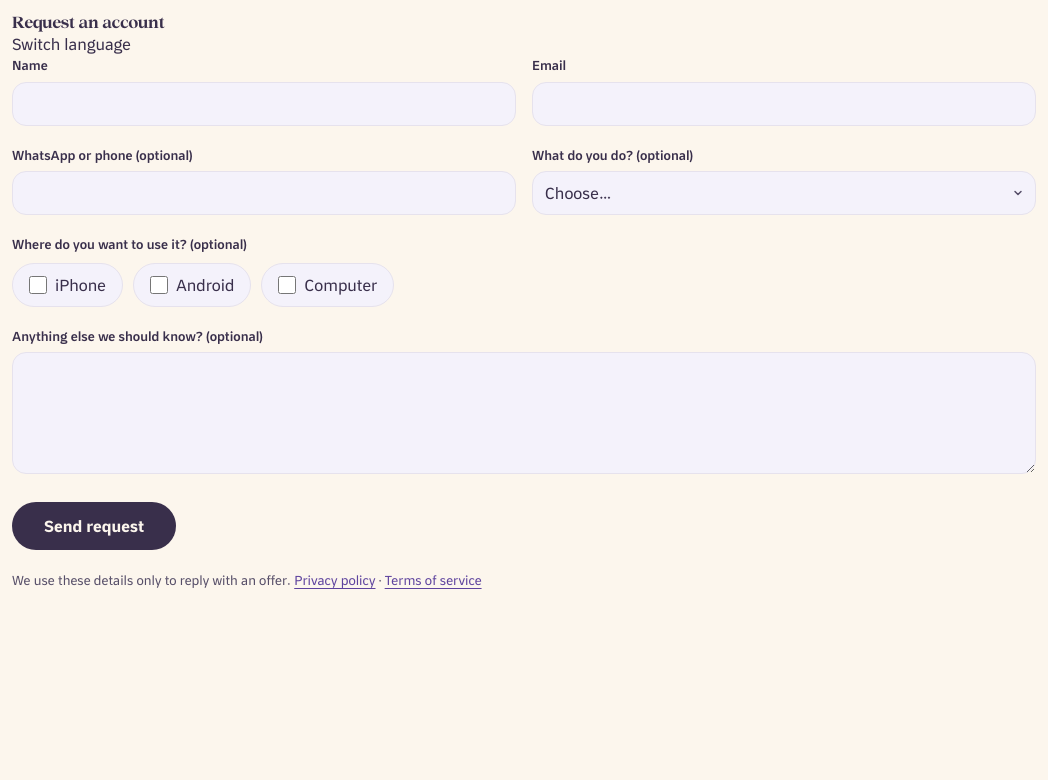
it: HostedRequestForm validation › stops an empty request, marks both required fields and moves focus to the first
Click the button "Send request" at (94, 526), box [12,502,176,550]
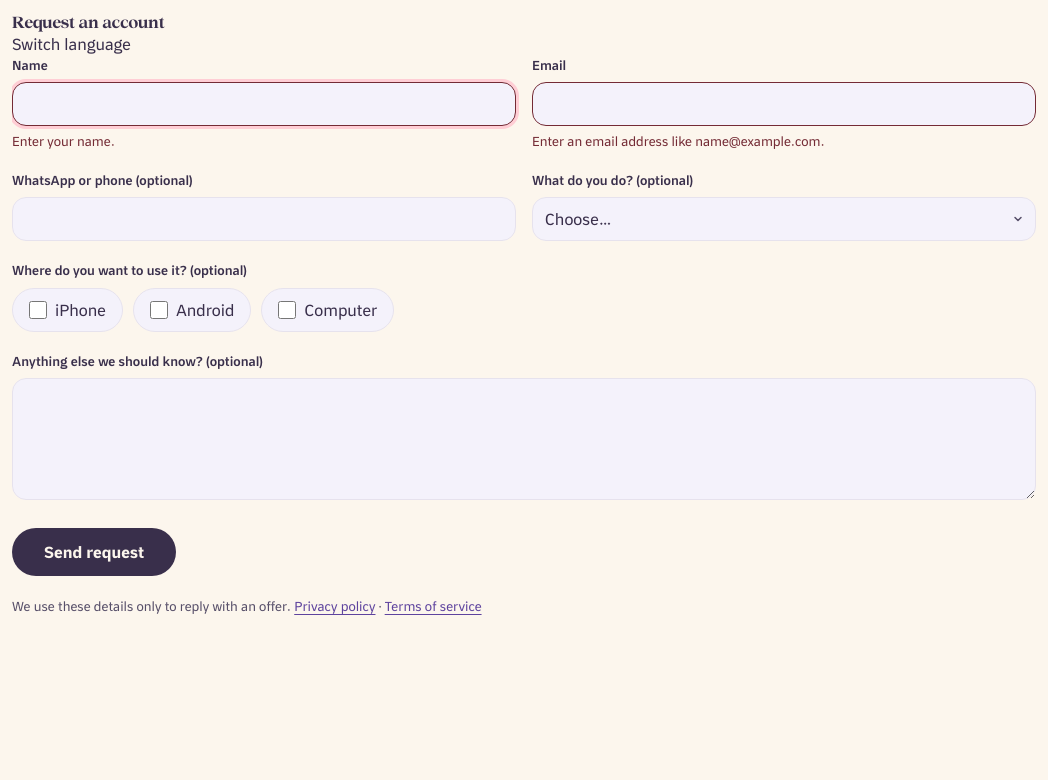
Expected: the text "Enter your name." is shown, [12,132,115,148]
Expected: the text "Enter an email address like name@example.com ." is shown, [532,132,825,148]
